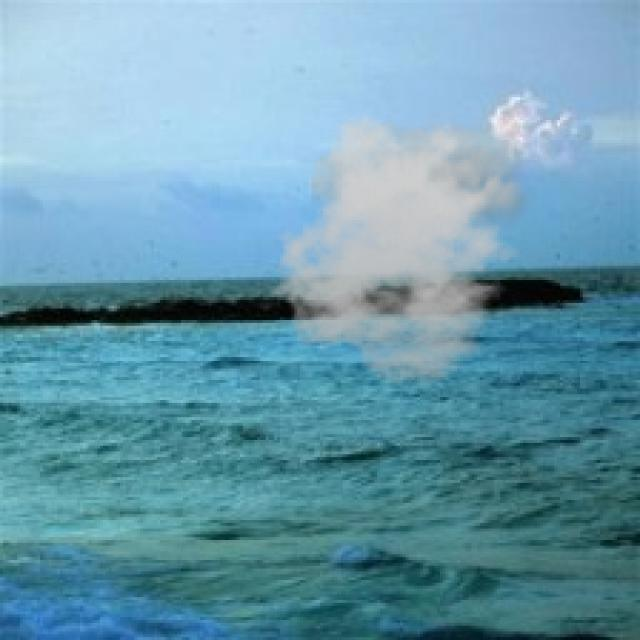smoke: (269, 106, 537, 386)
